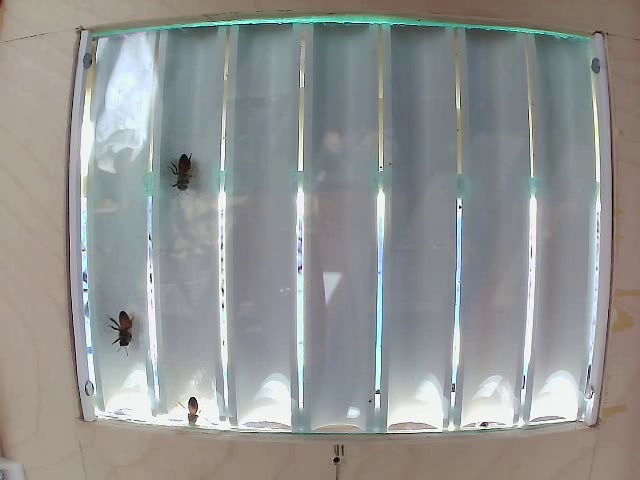bee: (154, 138, 215, 216), (112, 294, 141, 345)
